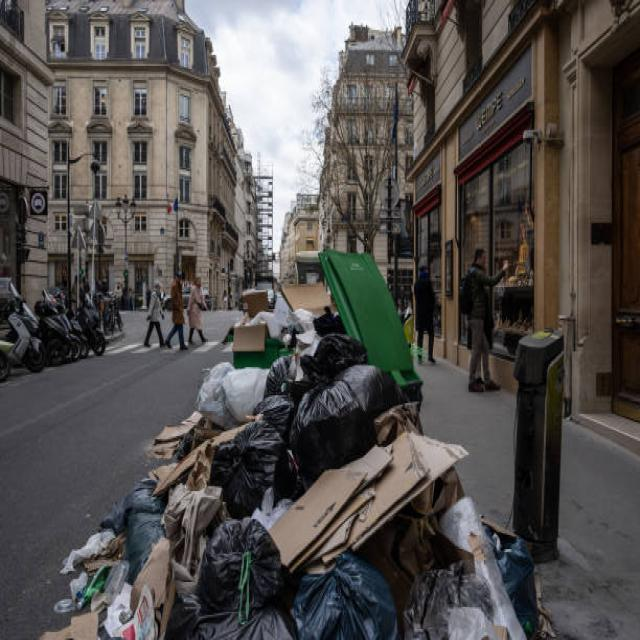cardboard: (264, 432, 462, 572), (78, 536, 201, 616), (152, 417, 209, 504), (228, 292, 268, 358)
trash: (266, 317, 402, 427)
